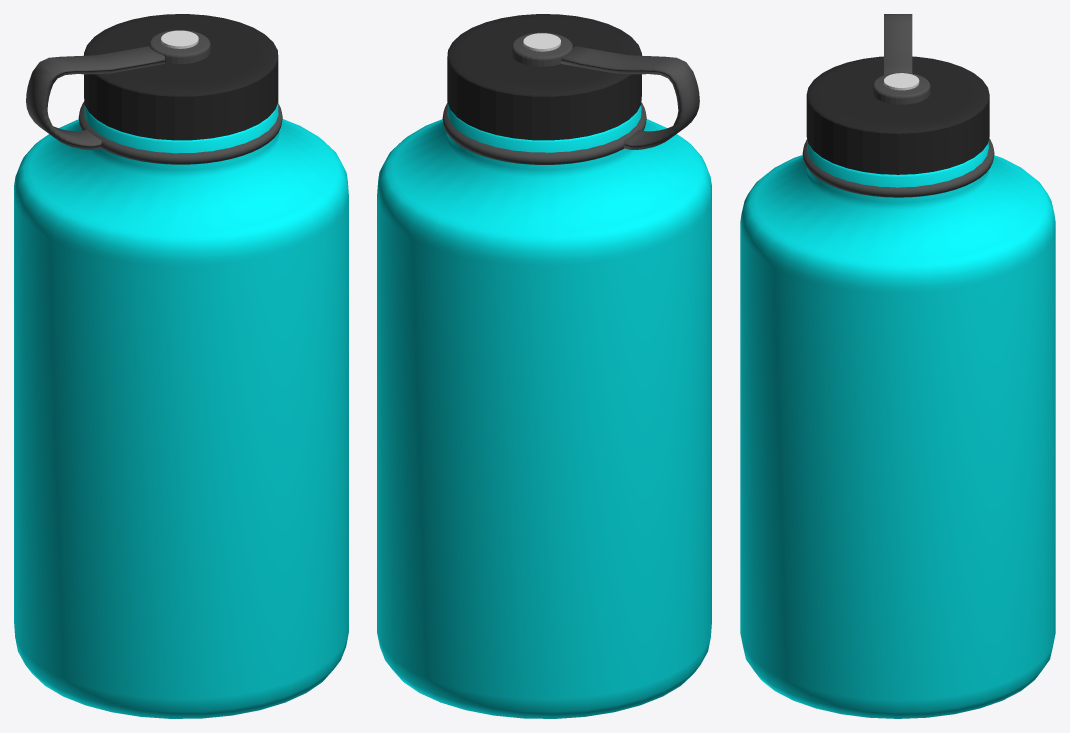
The model's file is aquaflask.glb.
3 renders of one model, left to right at view 1: azimuth 30°, elevation 25°; view 2: azimuth 150°, elevation 25°; view 3: azimuth 270°, elevation 25°, orthographic. The views are drawn at different scales.
Parts seen in each view (by area): view 1: Cylinder.007, Cylinder.006, Cube.001, Torus.001, Cylinder.005, Cylinder.004; view 2: Cylinder.007, Cylinder.006, Cube.001, Torus.001, Cylinder.005, Cylinder.004; view 3: Cylinder.007, Cylinder.006, Torus.001, Cube.001, Cylinder.005, Cylinder.004.
Boxes of the visible parts, left/top/right/bottom form: Cylinder.007: left=14, top=103, right=348, bottom=718; Cylinder.006: left=84, top=14, right=278, bottom=140; Cube.001: left=26, top=46, right=164, bottom=149; Torus.001: left=78, top=101, right=282, bottom=164; Cylinder.005: left=149, top=30, right=210, bottom=63; Cylinder.004: left=161, top=30, right=198, bottom=48; Cylinder.007: left=377, top=103, right=711, bottom=718; Cylinder.006: left=447, top=14, right=641, bottom=140; Cube.001: left=561, top=46, right=699, bottom=149; Torus.001: left=442, top=102, right=646, bottom=164; Cylinder.005: left=511, top=32, right=572, bottom=66; Cylinder.004: left=523, top=33, right=560, bottom=51; Cylinder.007: left=740, top=140, right=1055, bottom=718; Cylinder.006: left=806, top=56, right=989, bottom=174; Torus.001: left=802, top=138, right=994, bottom=197; Cube.001: left=884, top=14, right=912, bottom=75; Cylinder.005: left=872, top=72, right=930, bottom=104; Cylinder.004: left=884, top=73, right=919, bottom=90.
Bounding box in the file's own units: 1.06 × 2.15 × 1.05.
